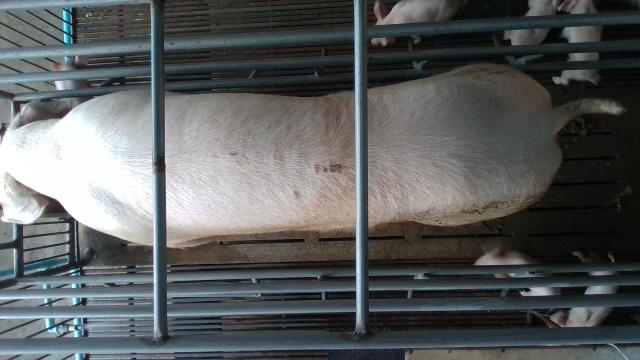piglet: (552, 252, 619, 330), (552, 0, 609, 87), (372, 1, 466, 46), (475, 251, 561, 296), (502, 0, 559, 46)
sow-stand-feed: (1, 62, 625, 248)
